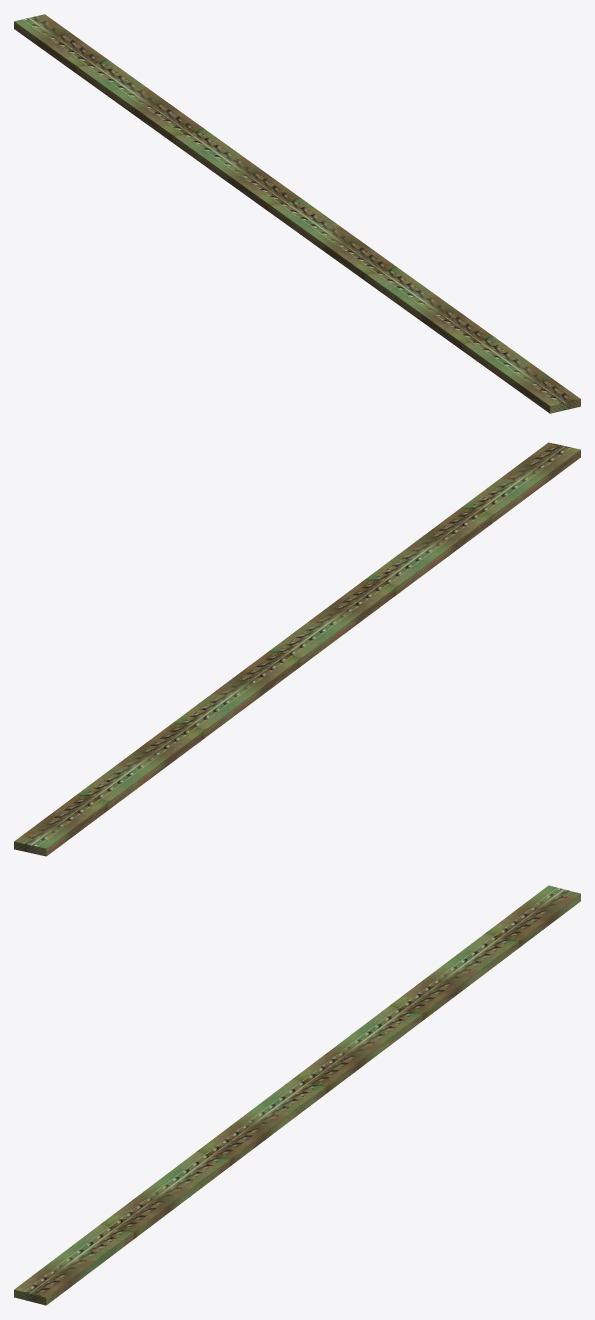
File: GH_1_RoofTI_2.gltf
3 views of the same model, one above another, from view 1: azimuth 30°, elevation 25°; view 2: azimuth 150°, elevation 25°; view 3: azimuth 330°, elevation 25° (orthographic). The views are drawn at different scales.
Parts seen in each view (by area): view 1: GH_1_RoofTI_2; view 2: GH_1_RoofTI_2; view 3: GH_1_RoofTI_2.
Boxes of the visible parts, x1,y1,x2,y2 form: GH_1_RoofTI_2: (14,14,580,413); GH_1_RoofTI_2: (14,442,580,856); GH_1_RoofTI_2: (14,885,580,1305).
Size of the model in its own units: 0.2389 by 0.058 by 5.26.
1 material, 1 textured.
